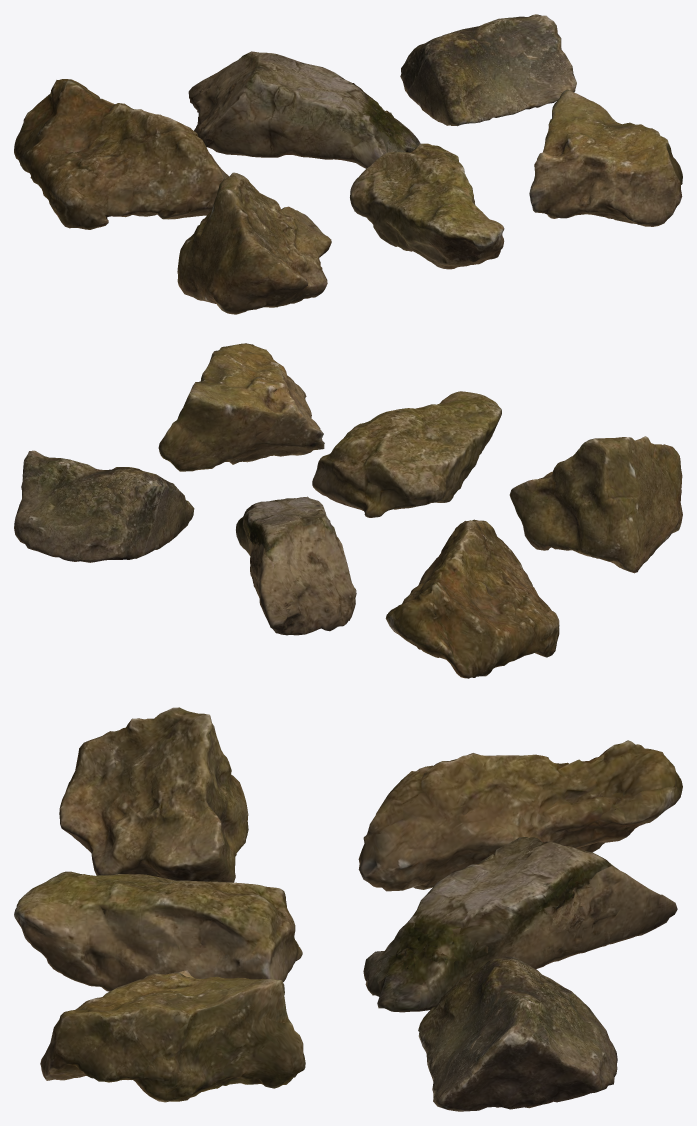
The model's file is rock_moss_set_01.fbx.
3 renders of one model, top to bottom at view 1: azimuth 30°, elevation 25°; view 2: azimuth 150°, elevation 25°; view 3: azimuth 270°, elevation 25°, orthographic. The views are drawn at different scales.
Visible parts, largest first — view 1: rock_moss_set_01_rock01, rock_moss_set_01_rock02, rock_moss_set_01_rock06, rock_moss_set_01_rock04, rock_moss_set_01_rock03, rock_moss_set_01_rock05; view 2: rock_moss_set_01_rock04, rock_moss_set_01_rock01, rock_moss_set_01_rock05, rock_moss_set_01_rock03, rock_moss_set_01_rock06, rock_moss_set_01_rock02; view 3: rock_moss_set_01_rock01, rock_moss_set_01_rock02, rock_moss_set_01_rock05, rock_moss_set_01_rock06, rock_moss_set_01_rock04, rock_moss_set_01_rock03.
Boxes of the visible parts, box(x1,y1,x2,y2) form: rock_moss_set_01_rock01: box(14, 79, 228, 229); rock_moss_set_01_rock02: box(188, 51, 420, 168); rock_moss_set_01_rock06: box(529, 89, 682, 226); rock_moss_set_01_rock04: box(177, 172, 331, 314); rock_moss_set_01_rock03: box(400, 14, 576, 126); rock_moss_set_01_rock05: box(350, 143, 504, 269); rock_moss_set_01_rock04: box(509, 436, 682, 573); rock_moss_set_01_rock01: box(385, 519, 559, 678); rock_moss_set_01_rock05: box(312, 391, 501, 517); rock_moss_set_01_rock03: box(14, 450, 194, 562); rock_moss_set_01_rock06: box(158, 343, 324, 471); rock_moss_set_01_rock02: box(236, 496, 356, 635); rock_moss_set_01_rock01: box(358, 740, 682, 891); rock_moss_set_01_rock02: box(363, 837, 677, 1012); rock_moss_set_01_rock05: box(14, 871, 302, 991); rock_moss_set_01_rock06: box(40, 970, 305, 1102); rock_moss_set_01_rock04: box(59, 707, 248, 882); rock_moss_set_01_rock03: box(418, 956, 617, 1111).
Size of the model in its own units: 800 by 177 by 695.
